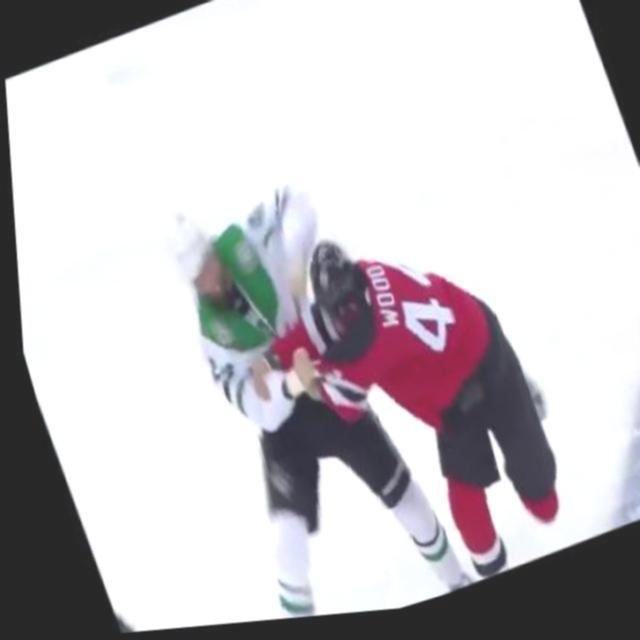fight: (134, 102, 596, 631)
